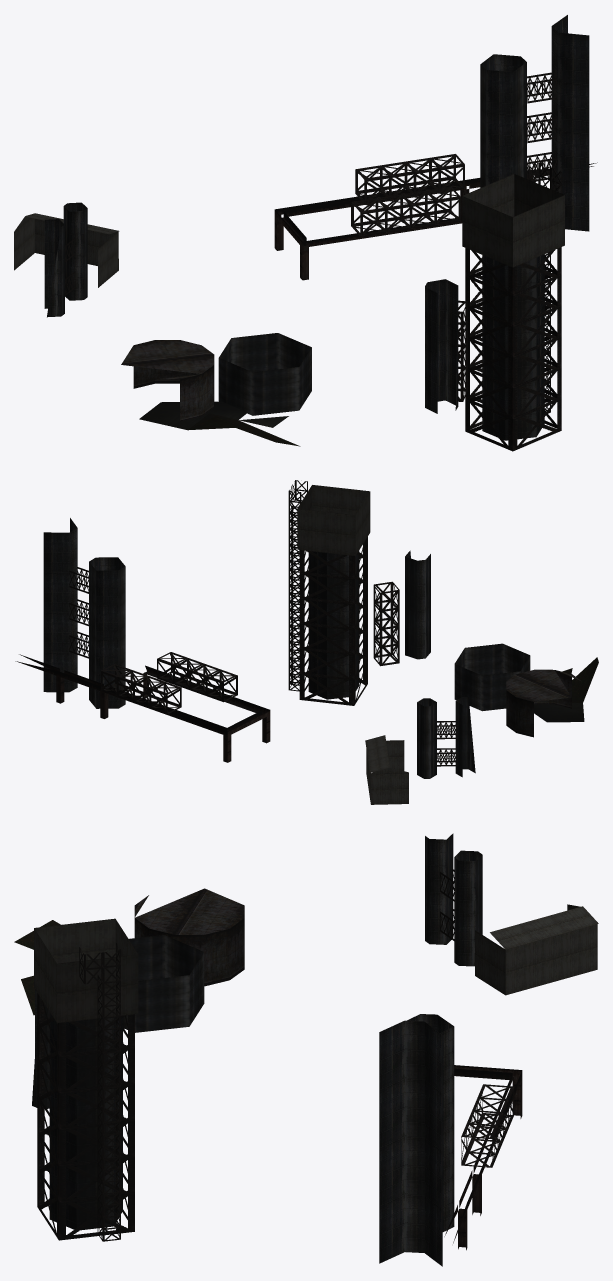
Rendered from cell_15_-9.gltf.
The picture shows the model from 3 angles, top to bottom: view 1: azimuth 30°, elevation 25°; view 2: azimuth 150°, elevation 25°; view 3: azimuth 270°, elevation 25°; orthographic projection. The views are drawn at different scales.
Parts seen in each view (by area): view 1: cell_15_-9; view 2: cell_15_-9; view 3: cell_15_-9.
Boxes of the visible parts, x1,y1,x2,y2 form: cell_15_-9: (14, 15, 597, 451); cell_15_-9: (15, 480, 598, 804); cell_15_-9: (14, 833, 598, 1266).
Size of the model in its own units: 286 by 121 by 211.
7 materials, 7 textured.
